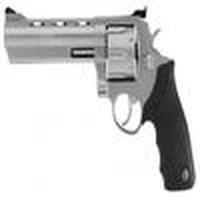gun: (1, 7, 197, 192)
